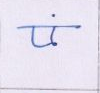anusvara: (52, 14, 55, 17)
